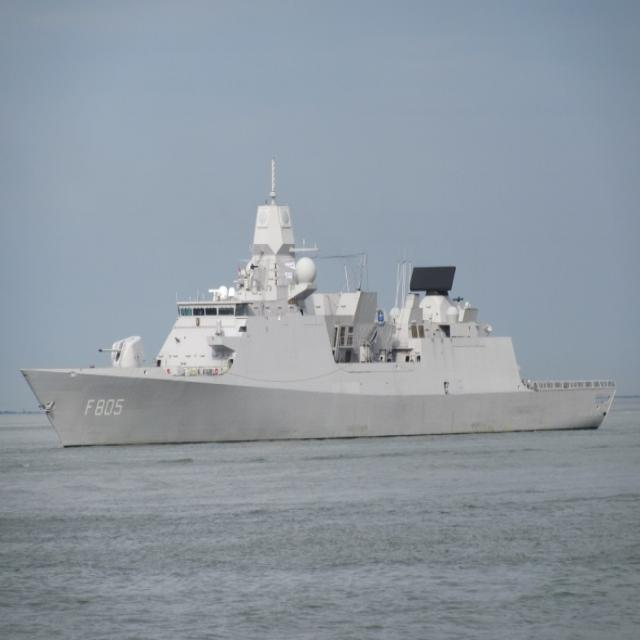Fragata: (16, 156, 620, 452)
